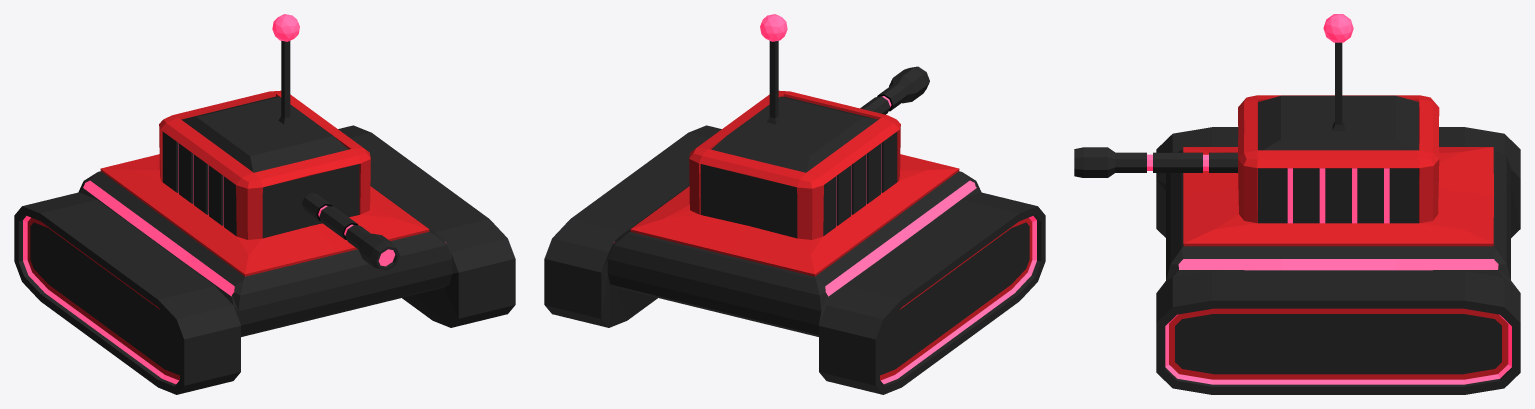
File: BotTank.fbx
3 views of the same model, side by side, from view 1: azimuth 30°, elevation 25°; view 2: azimuth 150°, elevation 25°; view 3: azimuth 270°, elevation 25° (orthographic). The views are drawn at different scales.
Parts seen in each view (by area): view 1: TankBot; view 2: TankBot; view 3: TankBot.
Boxes of the visible parts, x1,y1,x2,y2 form: TankBot: [14, 14, 515, 394]; TankBot: [544, 14, 1045, 394]; TankBot: [1074, 14, 1520, 394].
Size of the model in its own units: 957 by 783 by 1040.
